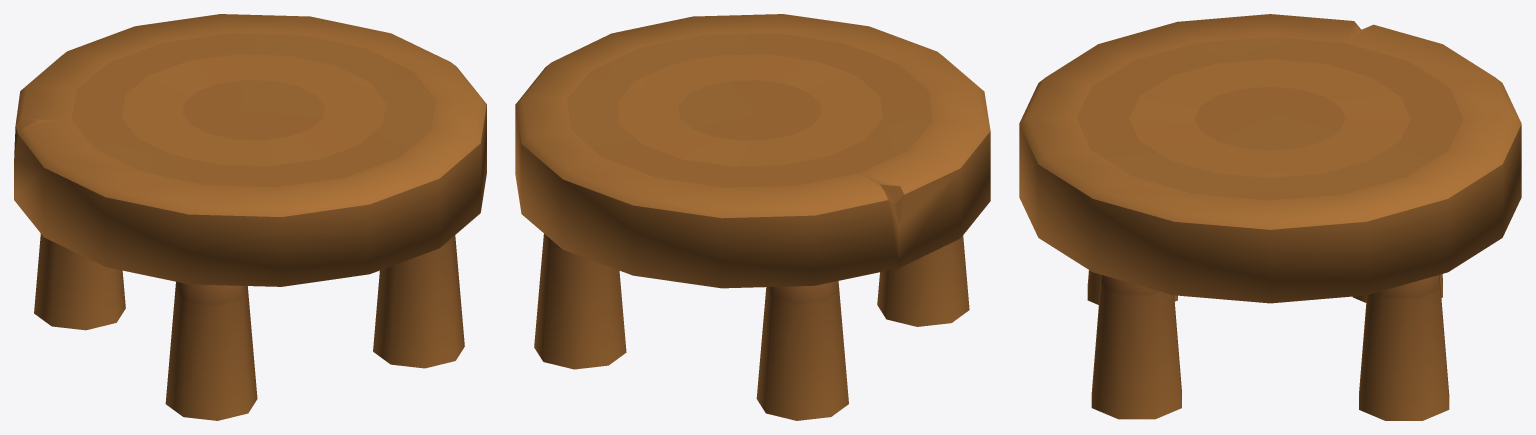
Rendered from obj_RoundTable.fbx.
3 renders of one model, left to right at view 1: azimuth 30°, elevation 25°; view 2: azimuth 150°, elevation 25°; view 3: azimuth 270°, elevation 25°, orthographic. The views are drawn at different scales.
Visible parts, largest first — view 1: obj_RoundTable; view 2: obj_RoundTable; view 3: obj_RoundTable.
Part boxes in pixels (x1,y1,x2,y2): obj_RoundTable: (14, 14, 486, 420); obj_RoundTable: (515, 14, 990, 420); obj_RoundTable: (1019, 14, 1521, 420).
Size of the model in its own units: 112 by 56.39 by 112.
